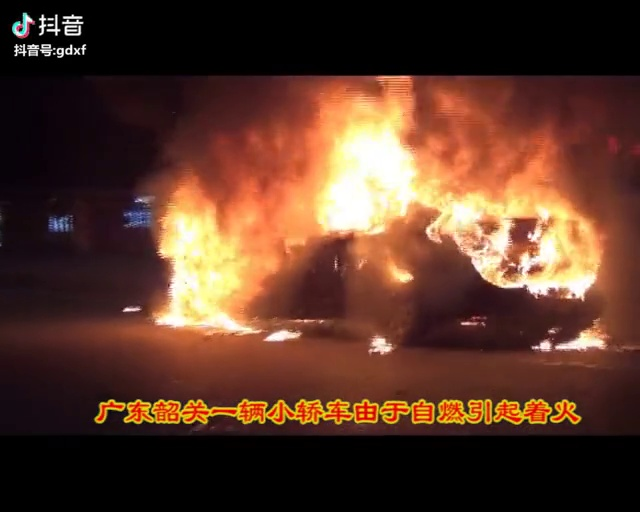fire: (155, 101, 597, 328)
